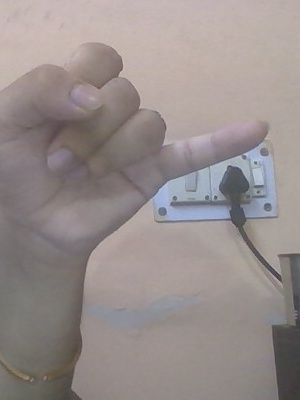J: (1, 32, 283, 315)
